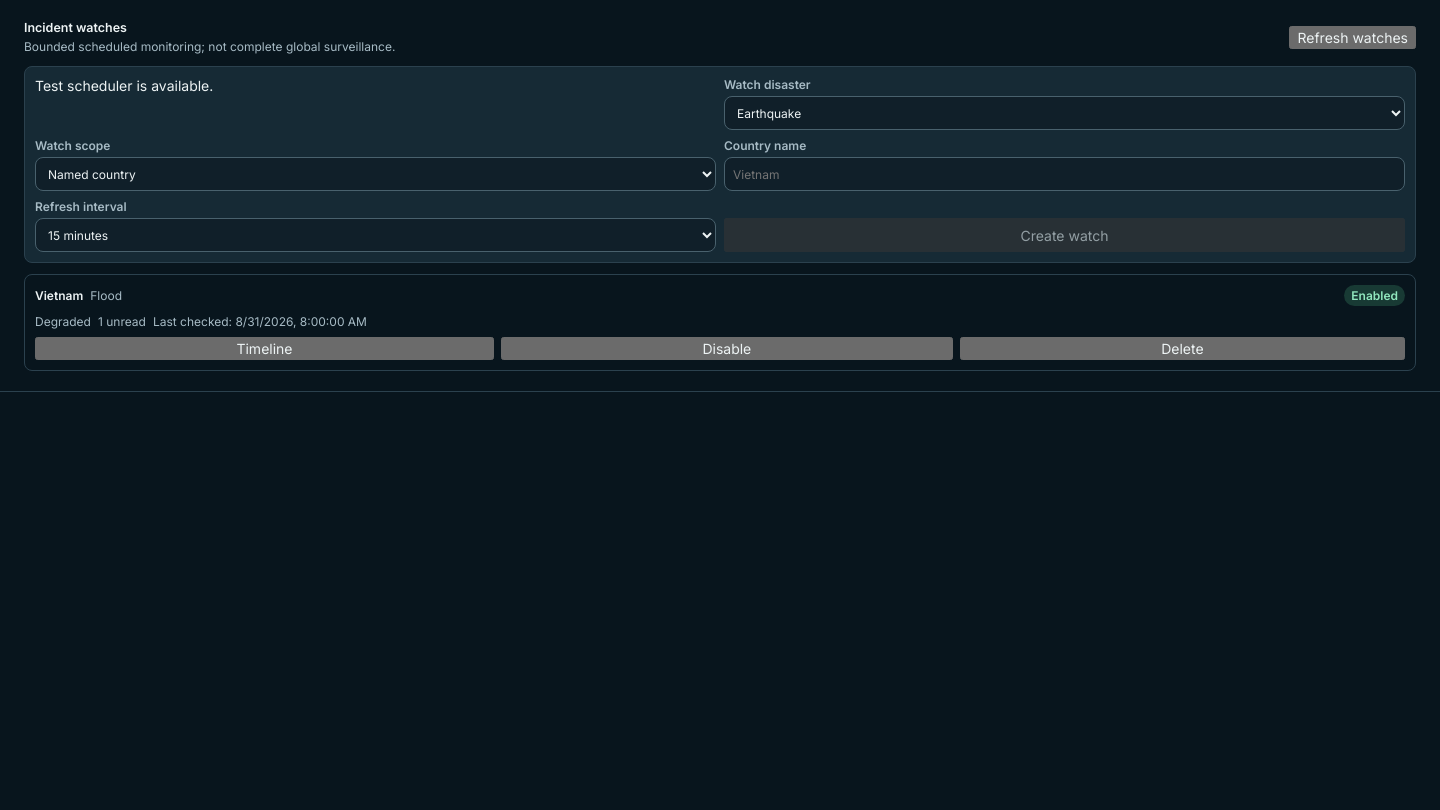
Scenario: IncidentWatches › shows degraded coverage, unread timeline, map selection, read, toggle, delete
Expected: the text "Vietnam" is shown, left=35, top=288, right=83, bottom=303
Expected: the text "Degraded" is shown, left=35, top=314, right=91, bottom=329
Click the button with aria-label "Show timeline for Vietnam" at (264, 349), box left=35, top=337, right=494, bottom=360
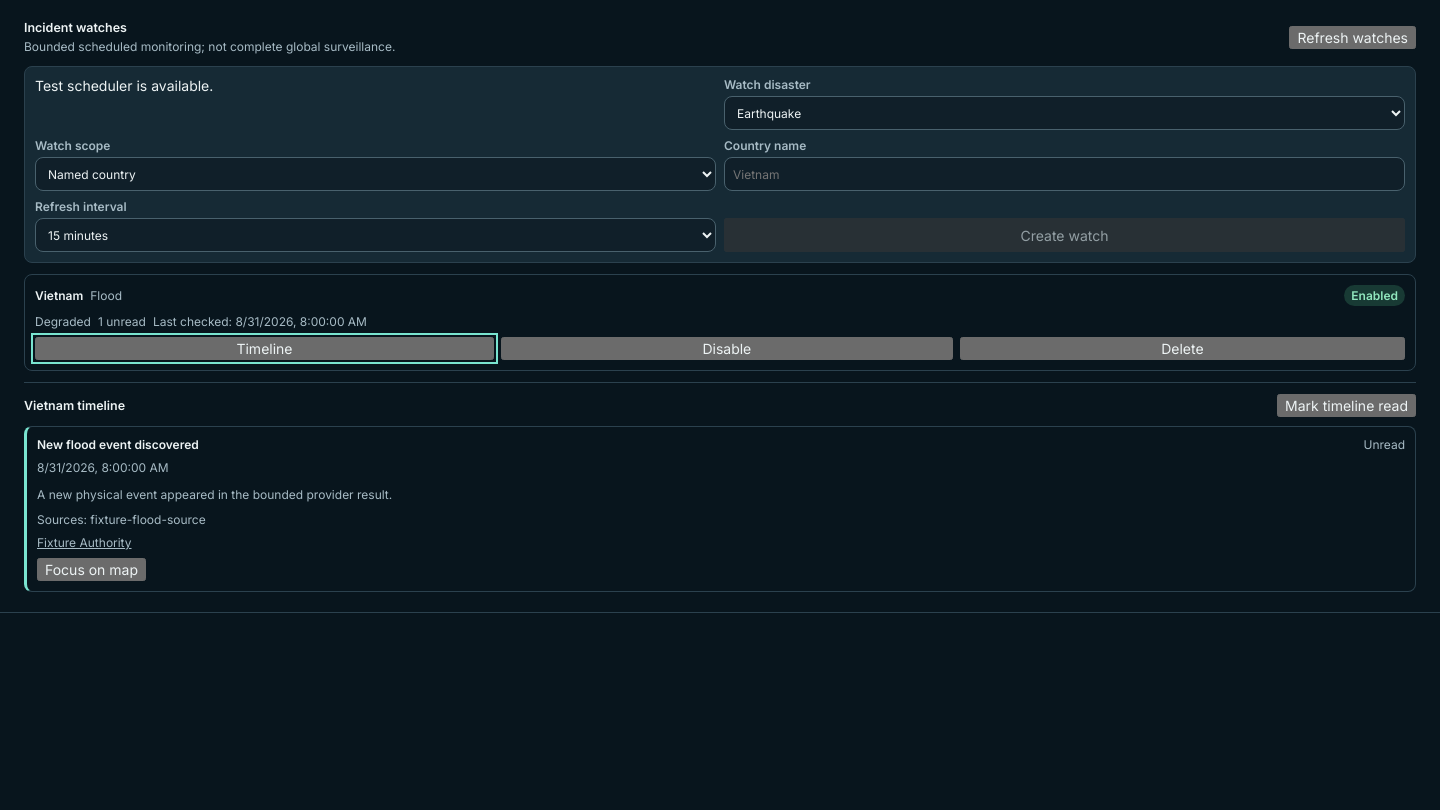
Expected: the text "New flood event discovered" is shown, left=37, top=437, right=199, bottom=452
Expected: the link "Fixture Authority" is shown, left=37, top=535, right=132, bottom=550
Expected: the text "Sources: fixture-flood-source" is shown, left=37, top=512, right=206, bottom=527
Click the button with aria-label "Focus Fixture delta on map" at (92, 569), box left=37, top=558, right=146, bottom=581
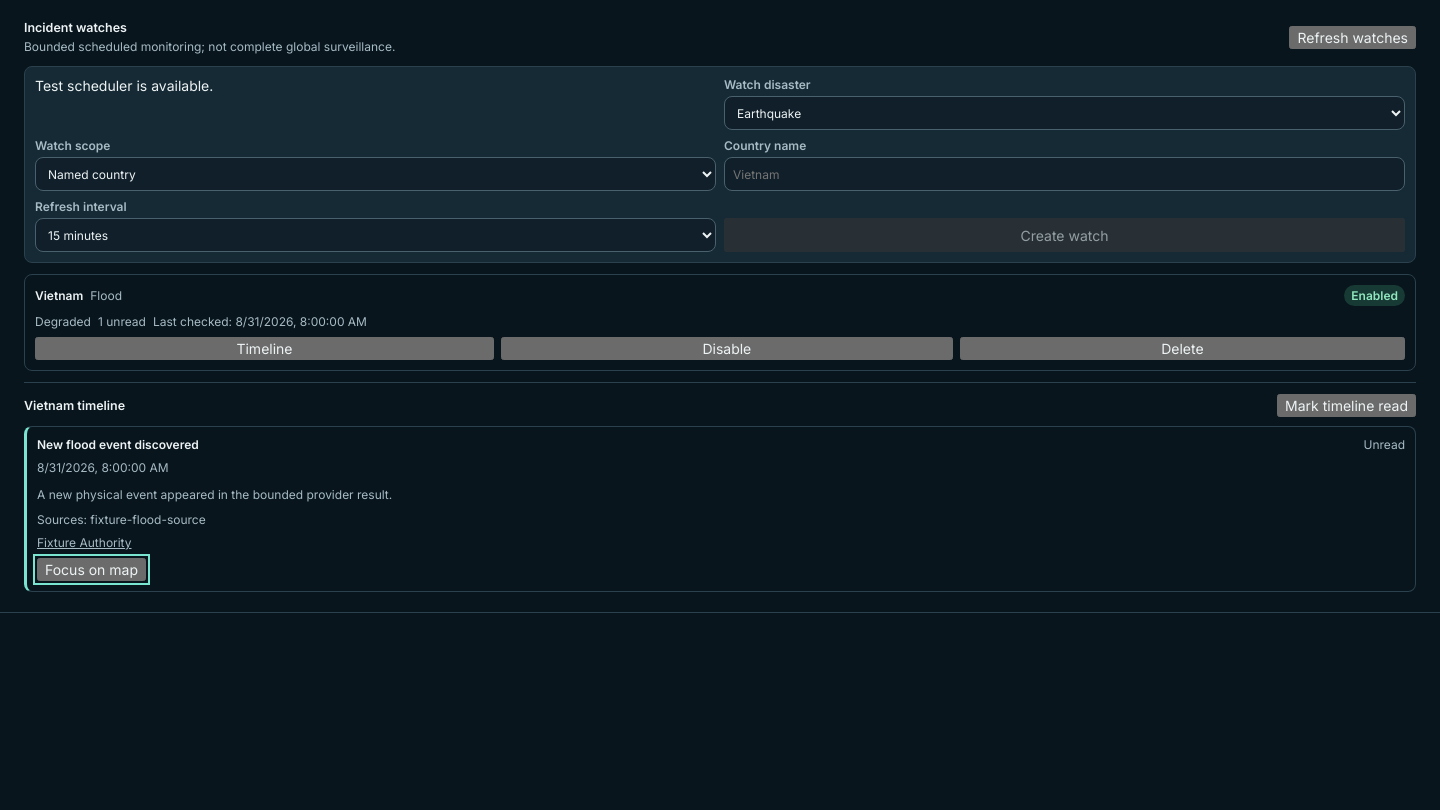
Click the button "Mark timeline read" at (1347, 406), box left=1277, top=394, right=1416, bottom=417
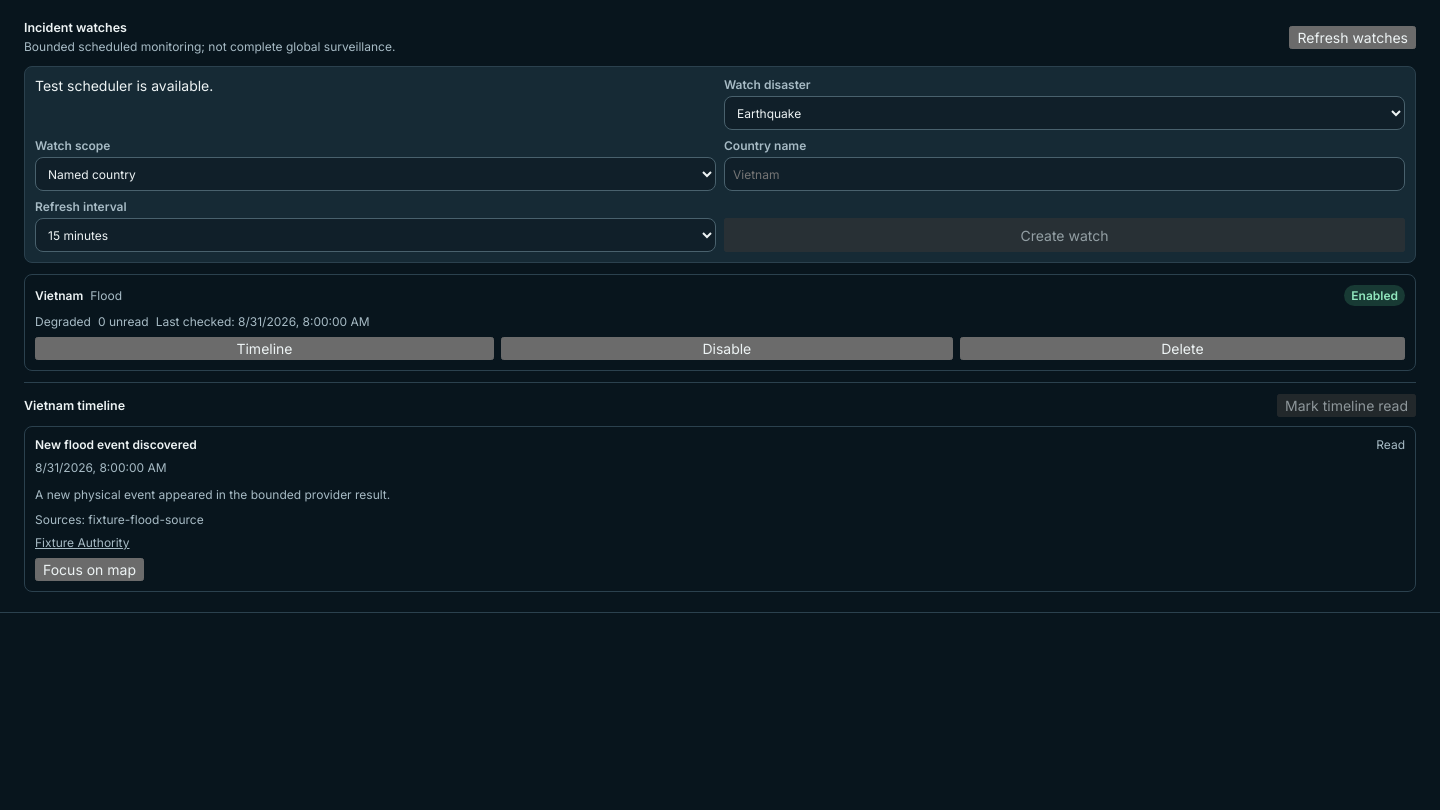
Expected: the text "0 unread" is shown, left=98, top=314, right=149, bottom=329
Click the button with aria-label "Disable Vietnam watch" at (727, 349), box left=501, top=337, right=953, bottom=360
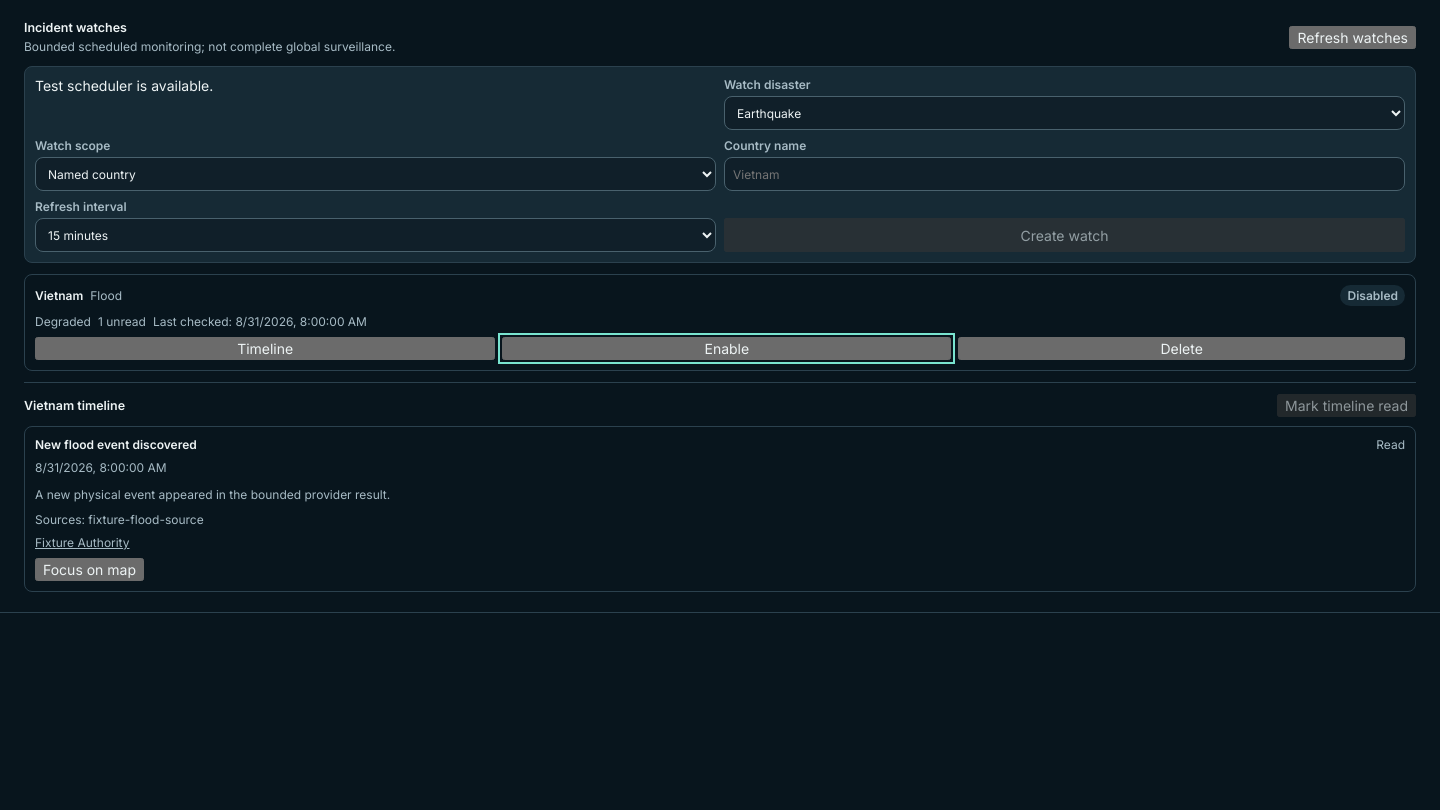
Expected: the text "Disabled" is shown, left=1340, top=285, right=1405, bottom=306
Click the button with aria-label "Delete Vietnam watch" at (1182, 349), box left=958, top=337, right=1405, bottom=360
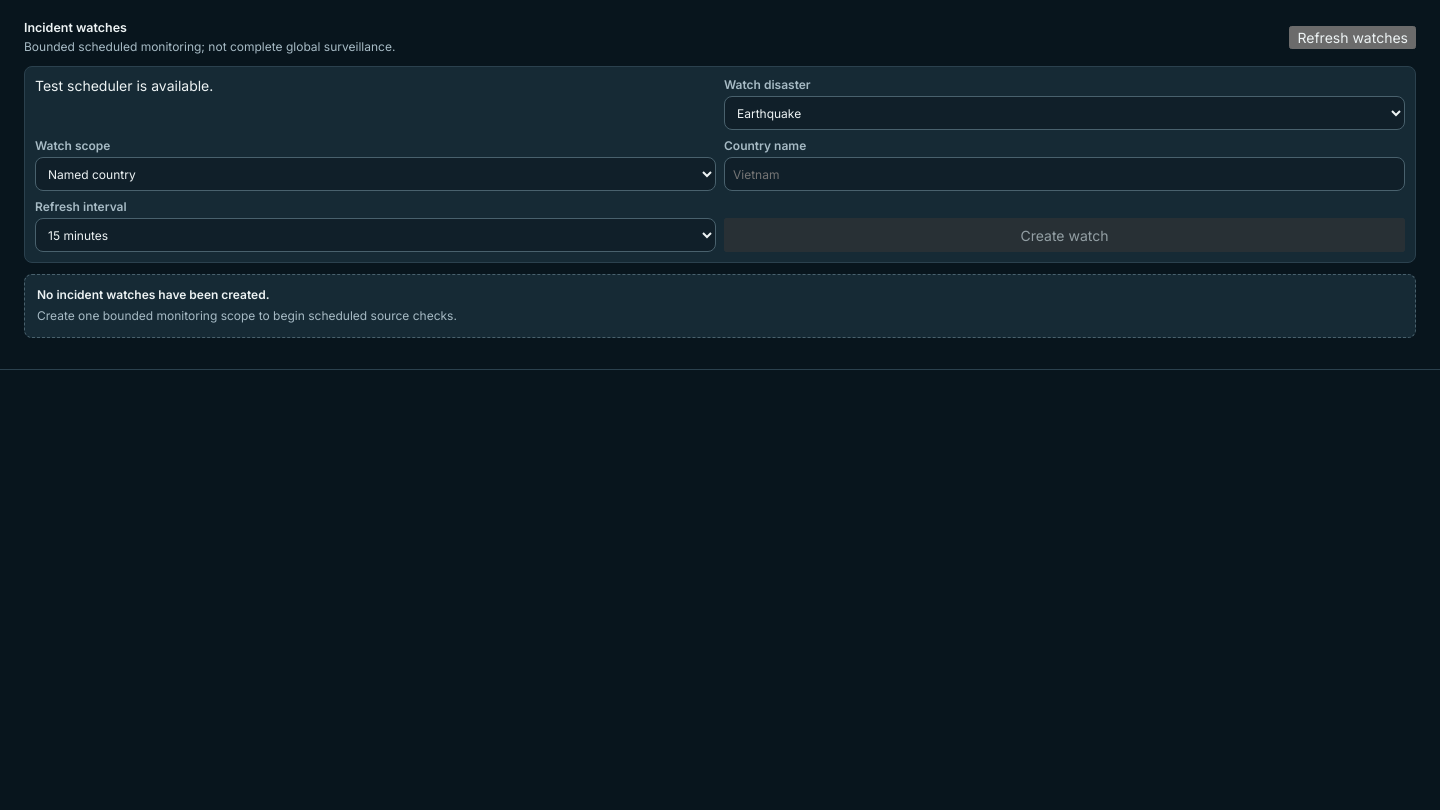
Expected: the text "No incident watches have been created." is shown, left=37, top=287, right=270, bottom=302
